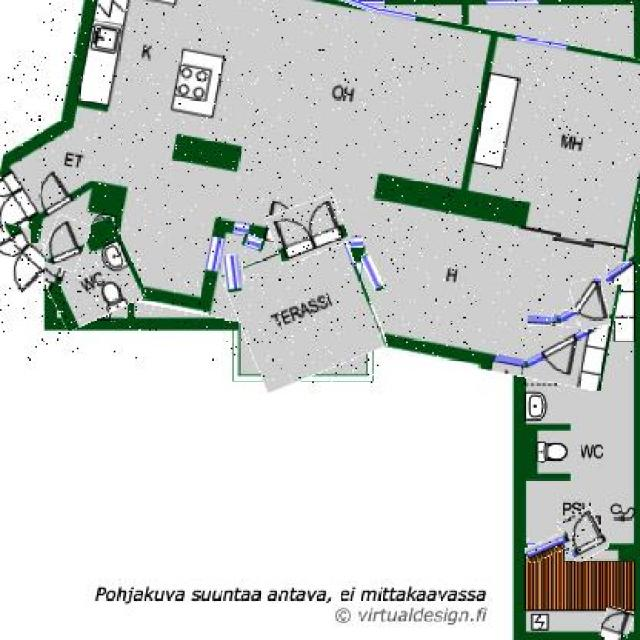door: (269, 198, 346, 260), (560, 509, 606, 560), (43, 217, 88, 269), (572, 280, 610, 332), (12, 245, 45, 288), (0, 224, 29, 262), (599, 607, 632, 640)
window: (526, 535, 572, 560), (225, 255, 243, 292), (365, 252, 380, 291), (608, 263, 632, 285), (554, 309, 578, 328), (332, 0, 382, 8), (243, 235, 265, 251), (529, 317, 560, 326), (351, 235, 363, 248), (485, 0, 537, 2)
zone: (0, 0, 640, 362), (231, 239, 378, 383), (37, 222, 140, 324)
